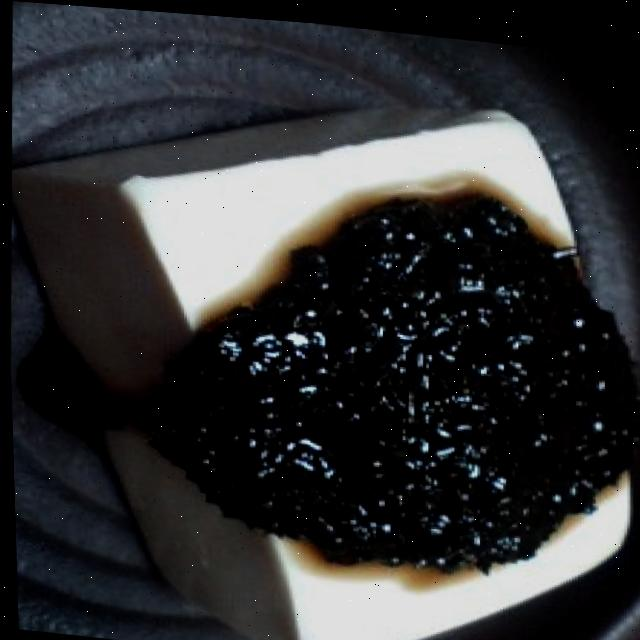豆腐料理: (1, 54, 640, 640)
